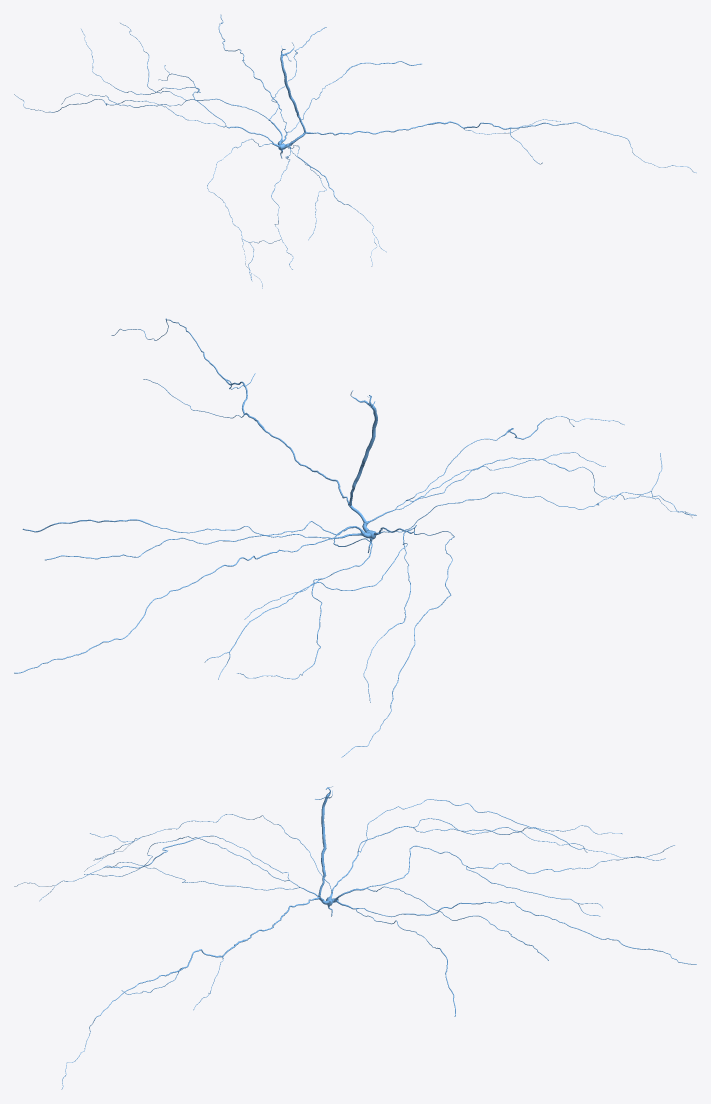
File: Roots.fbx
3 views of the same model, one above another, from view 1: azimuth 30°, elevation 25°; view 2: azimuth 150°, elevation 25°; view 3: azimuth 270°, elevation 25° (orthographic). The views are drawn at different scales.
Visible parts, largest first — view 1: MC5[0].soma; view 2: MC5[0].soma; view 3: MC5[0].soma.
Part boxes in pixels (bbox=[...]): MC5[0].soma: bbox=[14, 14, 696, 288]; MC5[0].soma: bbox=[14, 318, 696, 757]; MC5[0].soma: bbox=[14, 786, 696, 1089].
Bounding box in the file's own units: 94468 × 28550 × 111253.
